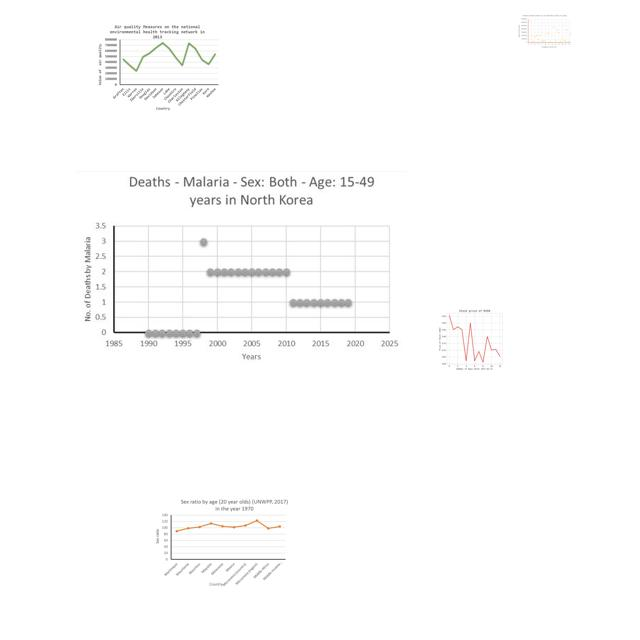Graph: (75, 171, 406, 368), (153, 498, 288, 587), (95, 23, 220, 113), (429, 305, 518, 372), (518, 14, 573, 49)
